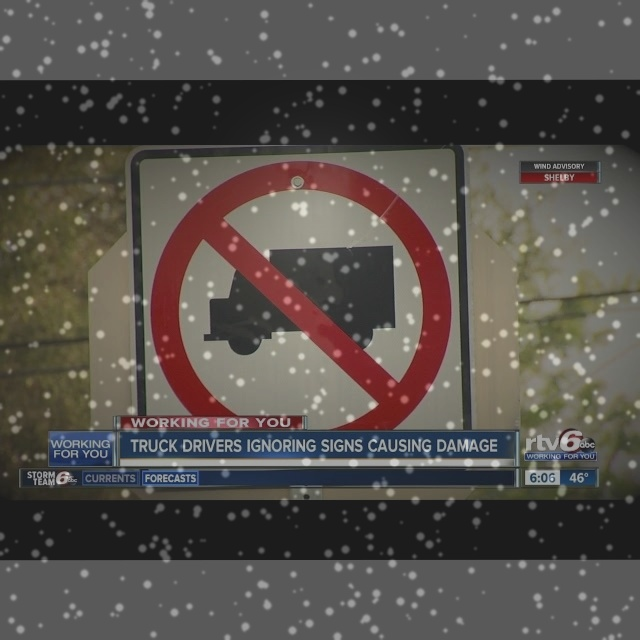Truck_Prohibited: (152, 166, 451, 416)
